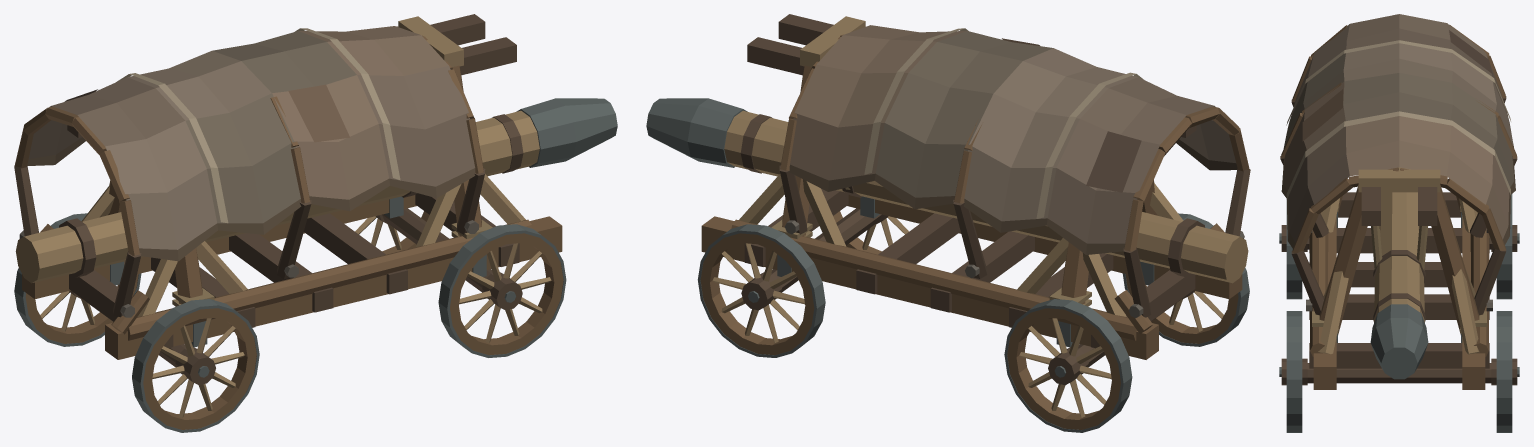
The model's file is river_ram.gltf.
3 renders of one model, left to right at view 1: azimuth 30°, elevation 25°; view 2: azimuth 150°, elevation 25°; view 3: azimuth 270°, elevation 25°, orthographic. The views are drawn at different scales.
Parts seen in each view (by area): view 1: Carriage, SuspendedBeam; view 2: Carriage, SuspendedBeam; view 3: Carriage, SuspendedBeam.
Boxes of the visible parts, bbox=[...] form: Carriage: bbox=[14, 14, 566, 432]; SuspendedBeam: bbox=[15, 98, 617, 283]; Carriage: bbox=[697, 14, 1250, 432]; SuspendedBeam: bbox=[646, 98, 1248, 283]; Carriage: bbox=[1279, 14, 1519, 432]; SuspendedBeam: bbox=[1370, 167, 1428, 379].
Size of the model in its own units: 4.67 by 2.3 by 1.88.
